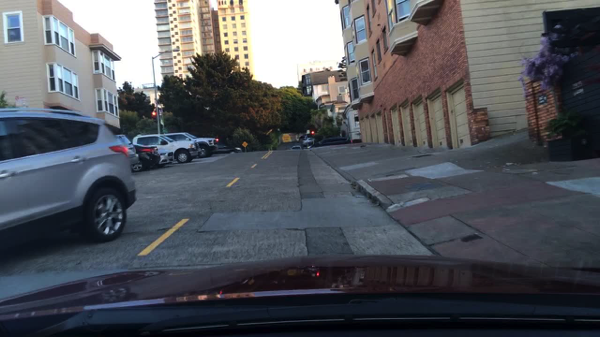car: (0, 109, 138, 244), (131, 134, 201, 165), (163, 132, 220, 158), (114, 134, 145, 172), (132, 143, 162, 170), (214, 140, 244, 154), (316, 138, 354, 146), (302, 137, 316, 147), (291, 146, 302, 150)
traffic light: (151, 110, 156, 116), (310, 130, 314, 135)
traffic sign: (242, 143, 248, 148)
